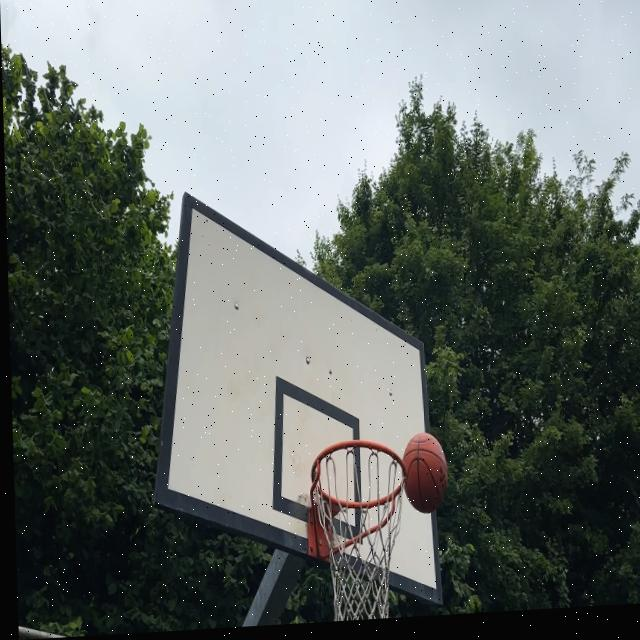rebound_hit: (398, 432, 449, 516)
